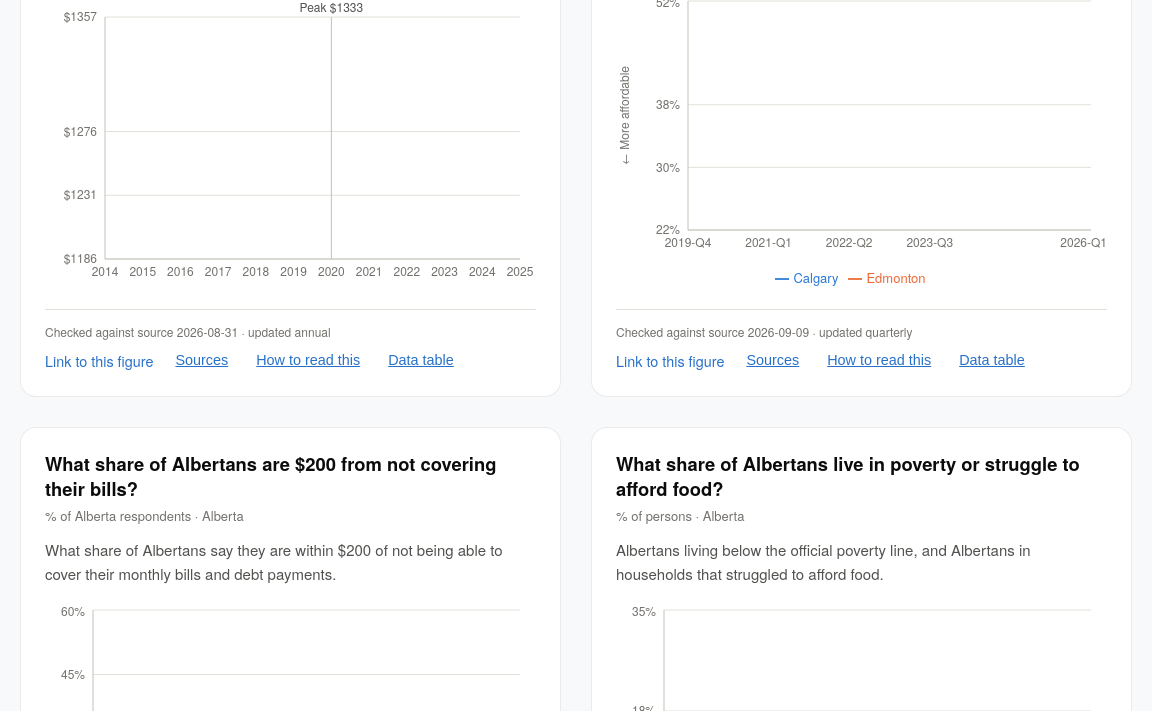
Test case: dashboard › reveals sources with working links when asked
(page scrolled)
Click the button "Sources" below "$1186": (202, 360) [169,349,234,372]
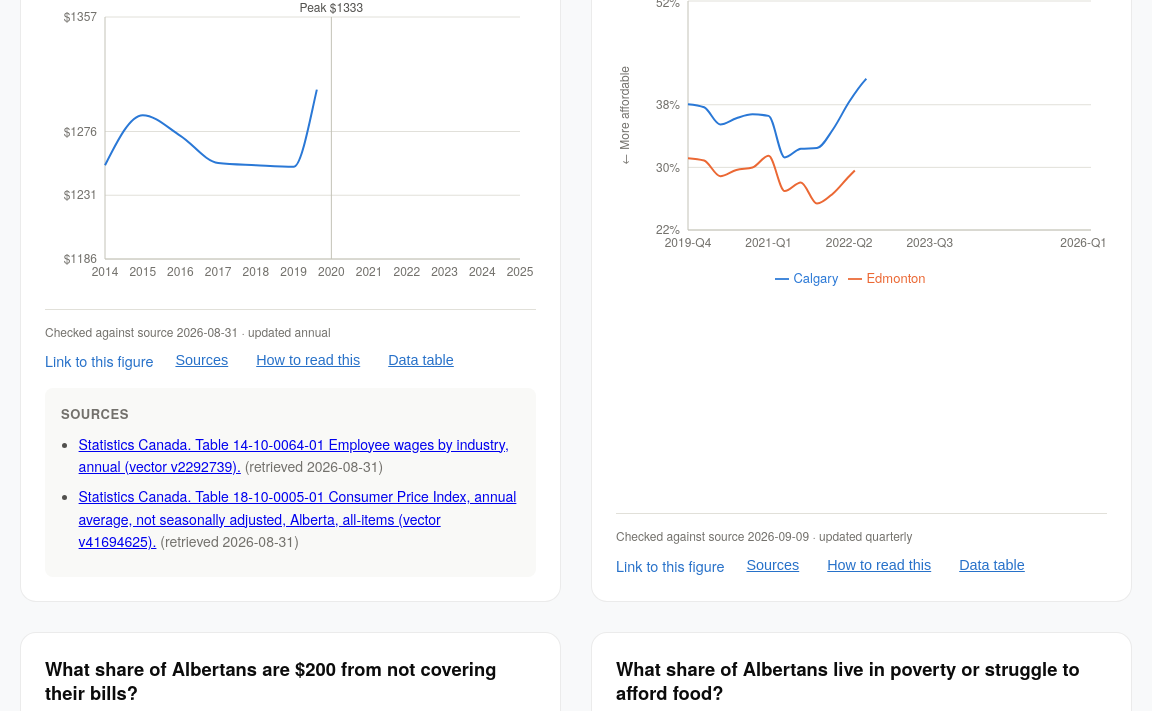
Expected: the 2nd link is shown, [79,434,509,476]
